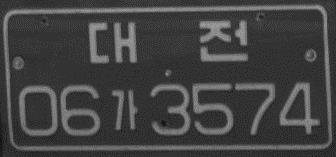0: (16, 81, 59, 138)
3: (148, 81, 190, 137)
4: (277, 78, 320, 137)
5: (191, 80, 233, 137)
6: (59, 81, 100, 137)
7: (232, 80, 278, 137)
가: (109, 87, 139, 132)
대전_D: (85, 18, 250, 67)
